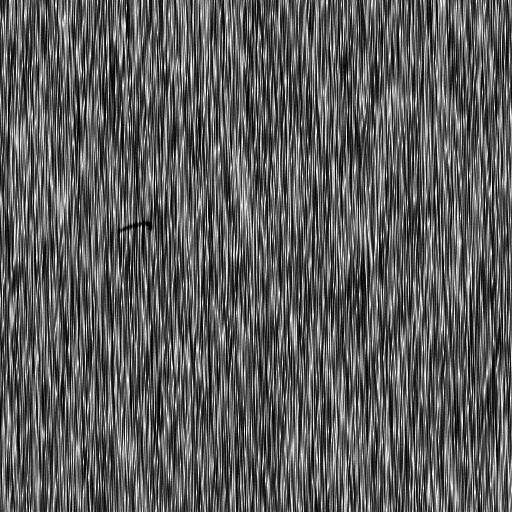DefectTypeC: (119, 220, 153, 237)
